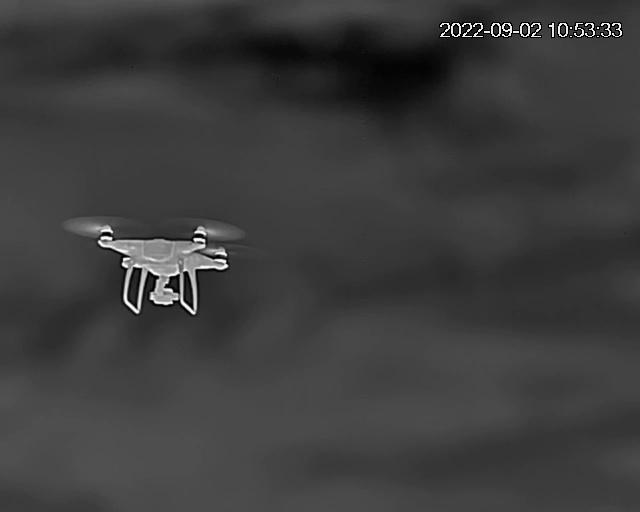DJI-Phantom: (69, 215, 248, 319)
